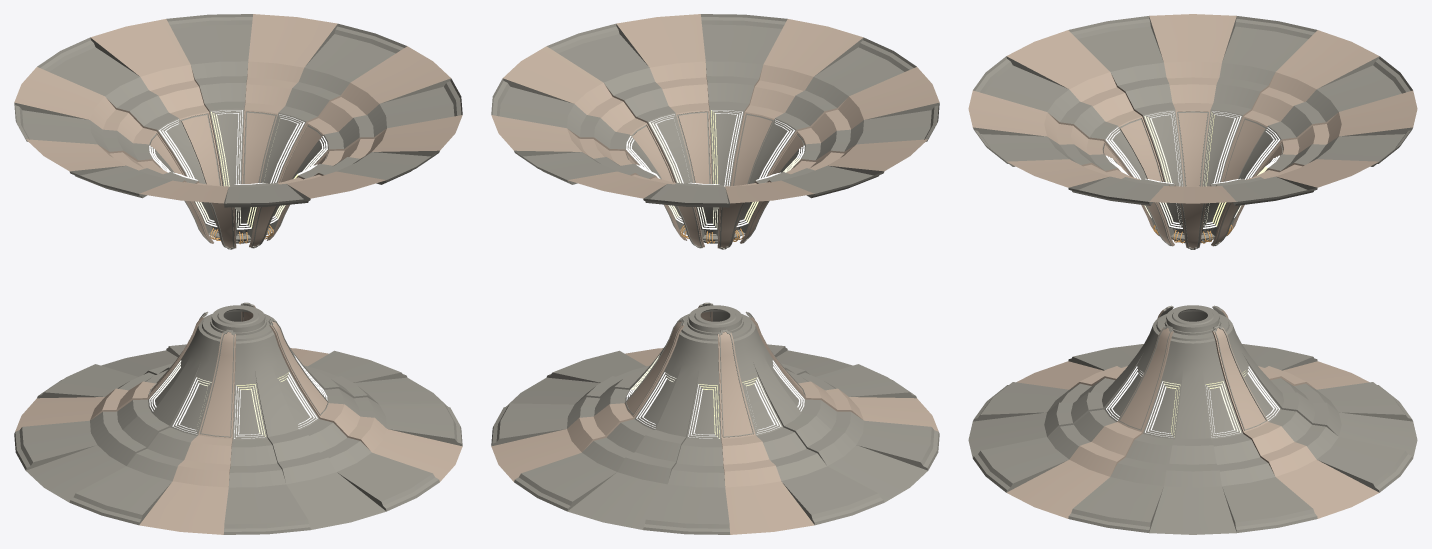
The model's file is Room_PowerChamber_Supports.fbx.
The picture shows the model from 3 angles, left to right: view 1: azimuth 30°, elevation 25°; view 2: azimuth 150°, elevation 25°; view 3: azimuth 270°, elevation 25°; orthographic projection.
Parts seen in each view (by area): view 1: chamber supports; view 2: chamber supports; view 3: chamber supports.
Part boxes in pixels (x1,y1,x2,y2): chamber supports: [14, 14, 462, 534]; chamber supports: [491, 14, 939, 534]; chamber supports: [968, 14, 1417, 534].
Size of the model in its own units: 2414 by 1965 by 2414.
